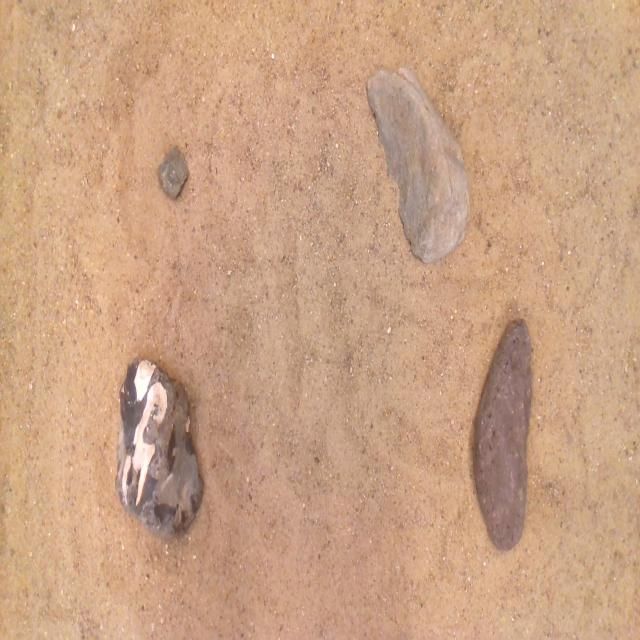rock: (368, 68, 469, 263), (116, 360, 203, 536), (473, 319, 532, 550), (158, 147, 188, 199)
